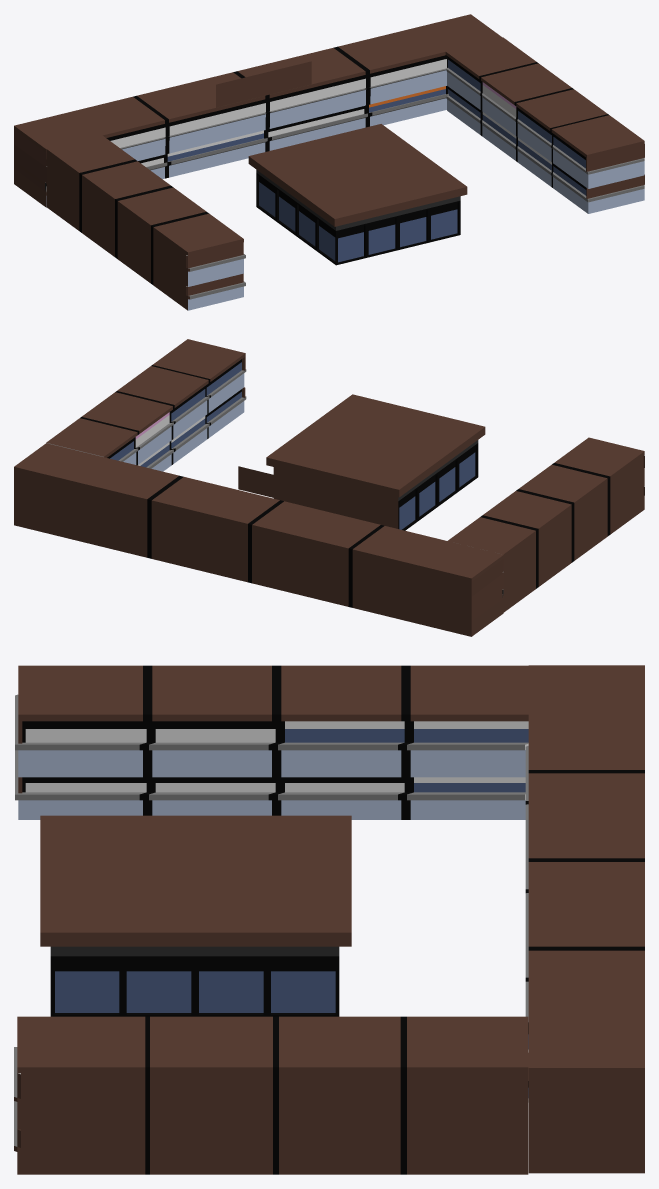
File: Placita.fbx
3 views of the same model, one above another, from view 1: azimuth 30°, elevation 25°; view 2: azimuth 150°, elevation 25°; view 3: azimuth 270°, elevation 25° (orthographic). The views are drawn at different scales.
Parts seen in each view (by area): view 1: Cube, Plane; view 2: Cube, Plane; view 3: Cube.
Part boxes in pixels (x1,y1,x2,y2): Cube: (14,14,644,310); Plane: (216,61,311,107); Cube: (14,339,644,636); Plane: (238,466,334,512); Cube: (14,665,644,1174).
Bounding box in the file's own units: 5611 × 965 × 3699.
